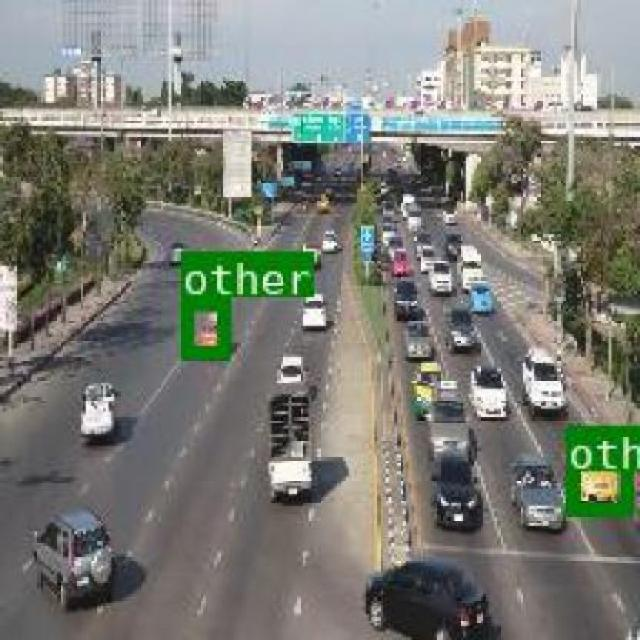other: (564, 423, 630, 512), (178, 297, 228, 357)
